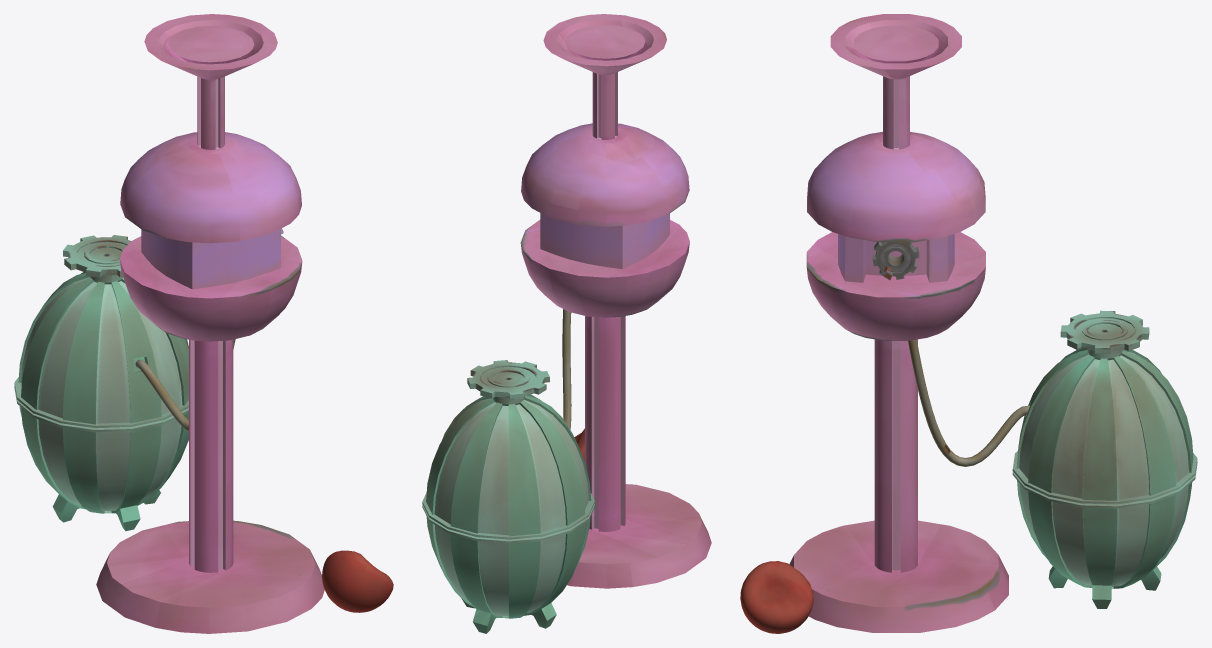
The model's file is smoke_machine.fbx.
The picture shows the model from 3 angles, left to right: view 1: azimuth 30°, elevation 25°; view 2: azimuth 150°, elevation 25°; view 3: azimuth 270°, elevation 25°; orthographic projection. The views are drawn at different scales.
Parts seen in each view (by area): view 1: smoke_machine; view 2: smoke_machine; view 3: smoke_machine.
Part boxes in pixels (box(x1,y1,x2,y2)): smoke_machine: box(14, 14, 393, 633); smoke_machine: box(422, 14, 711, 633); smoke_machine: box(740, 14, 1197, 633).
Size of the model in its own units: 332 by 806 by 612.
